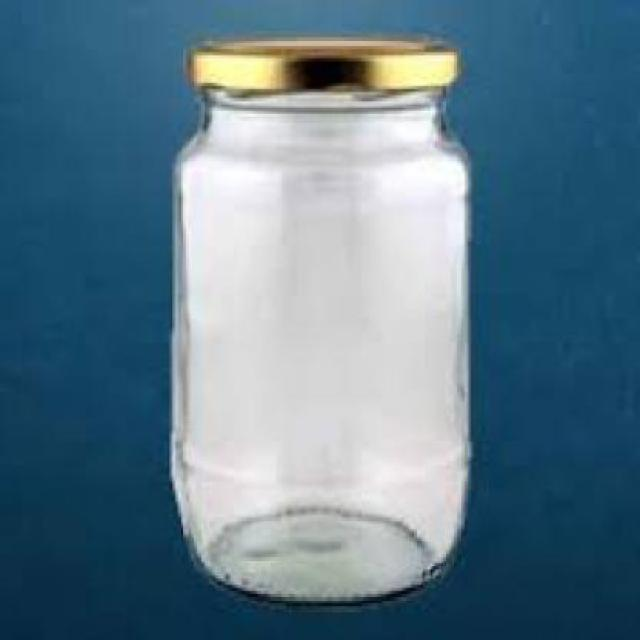kaca: (168, 86, 468, 603)
